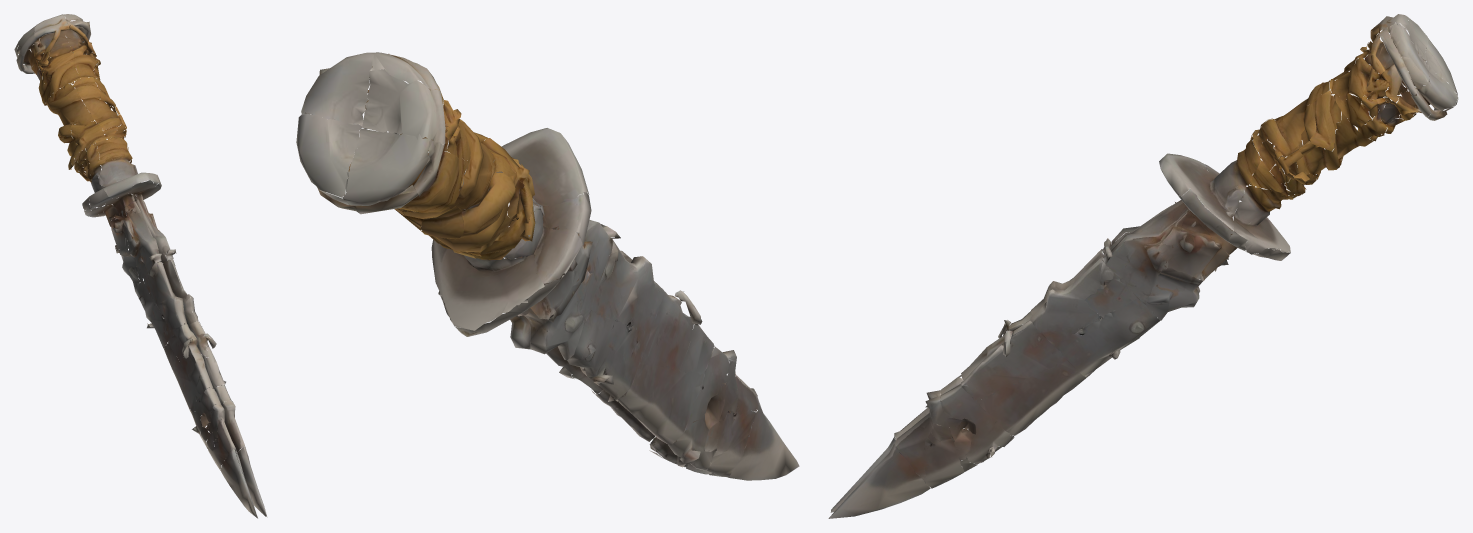
Rendered from crude_knife.glb.
The picture shows the model from 3 angles, left to right: view 1: azimuth 30°, elevation 25°; view 2: azimuth 150°, elevation 25°; view 3: azimuth 270°, elevation 25°; orthographic projection. The views are drawn at different scales.
Parts seen in each view (by area): view 1: tripo_node_3dd7d101-edd1-4a9f-97c8-d140d3fdb2d4; view 2: tripo_node_3dd7d101-edd1-4a9f-97c8-d140d3fdb2d4; view 3: tripo_node_3dd7d101-edd1-4a9f-97c8-d140d3fdb2d4.
Boxes of the visible parts, bbox=[...] form: tripo_node_3dd7d101-edd1-4a9f-97c8-d140d3fdb2d4: bbox=[14, 14, 267, 518]; tripo_node_3dd7d101-edd1-4a9f-97c8-d140d3fdb2d4: bbox=[296, 52, 799, 480]; tripo_node_3dd7d101-edd1-4a9f-97c8-d140d3fdb2d4: bbox=[828, 14, 1458, 518].
Bounding box in the file's own units: 0.1818 × 0.8707 × 1.
Materials: 1 (1 with a texture image).
